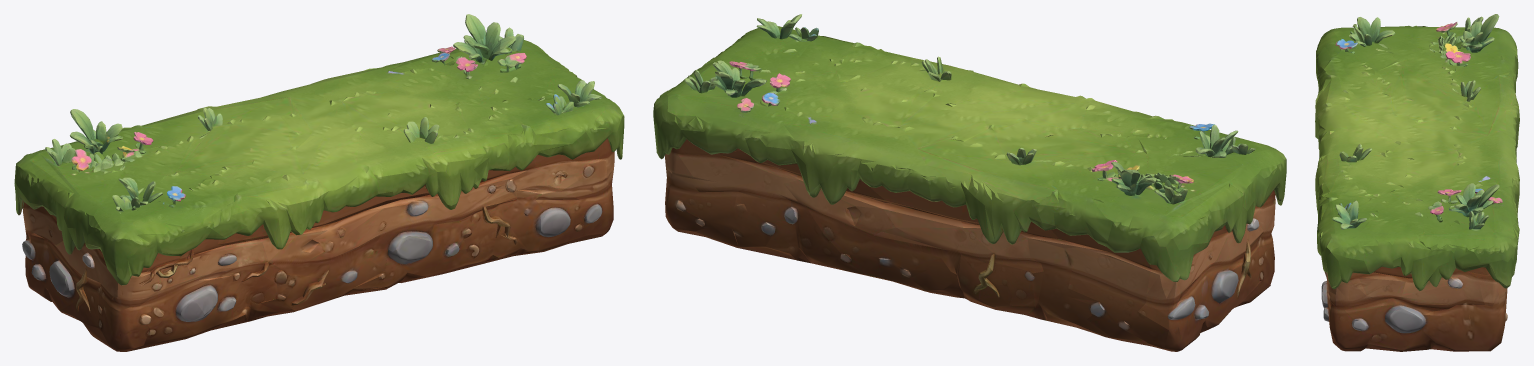
The model's file is ground_block.fbx.
3 renders of one model, left to right at view 1: azimuth 30°, elevation 25°; view 2: azimuth 150°, elevation 25°; view 3: azimuth 270°, elevation 25°, orthographic. The views are drawn at different scales.
Visible parts, largest first — view 1: ground_block; view 2: ground_block; view 3: ground_block.
Boxes of the visible parts, bbox=[...] form: ground_block: bbox=[14, 14, 624, 351]; ground_block: bbox=[653, 14, 1286, 351]; ground_block: bbox=[1315, 14, 1519, 351].
Size of the model in its own units: 4.81 by 1.5 by 1.88.
